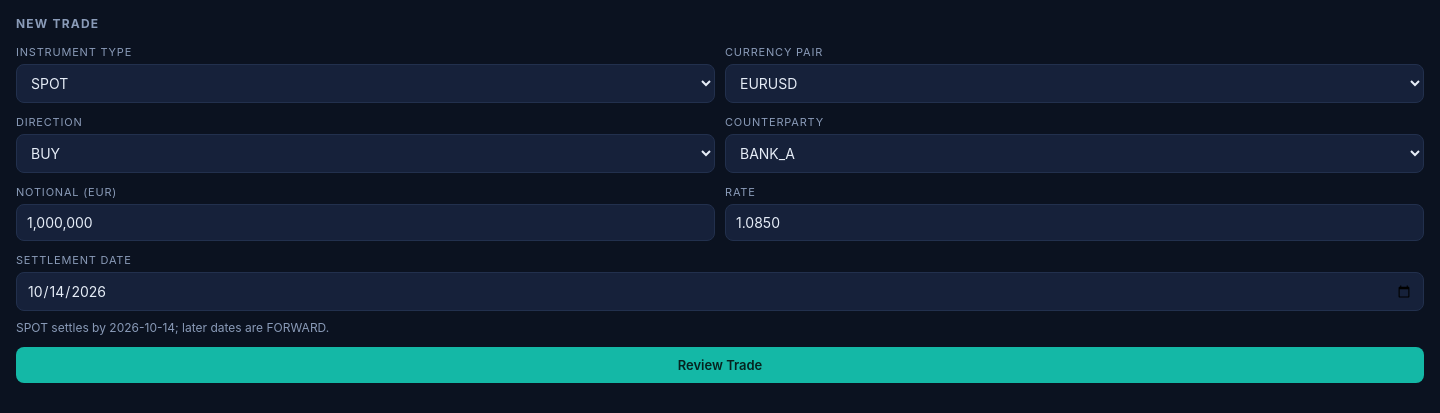
Test: NewTradeForm › shows a confirmation review before booking (SPOT)
This screenshot has width=1440, height=413.
Click the button "Review Trade": click(720, 365) [16,347,1424,383]
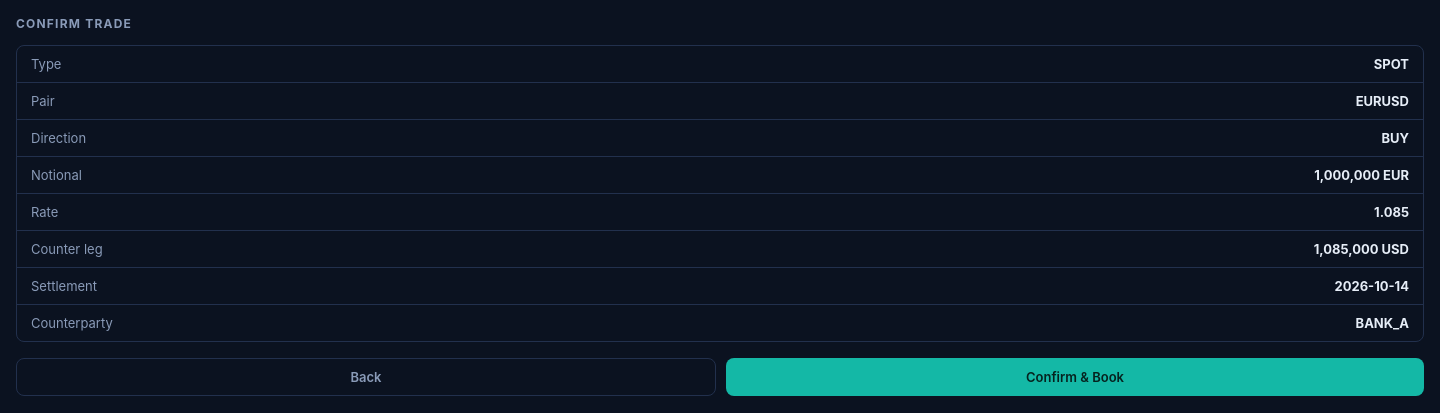
Expected: the heading "Confirm Trade" is shown, [16,16,132,31]
Expected: the text "EURUSD" is shown, [1356,93,1409,109]
Expected: the text "1,085,000 USD" is shown, [1314,241,1409,257]
